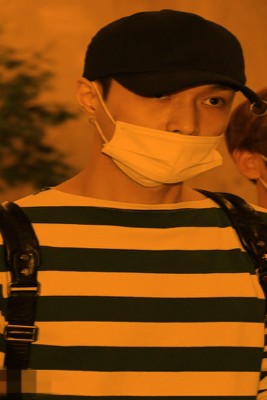mask_weared_incorrect: (96, 86, 232, 184)
